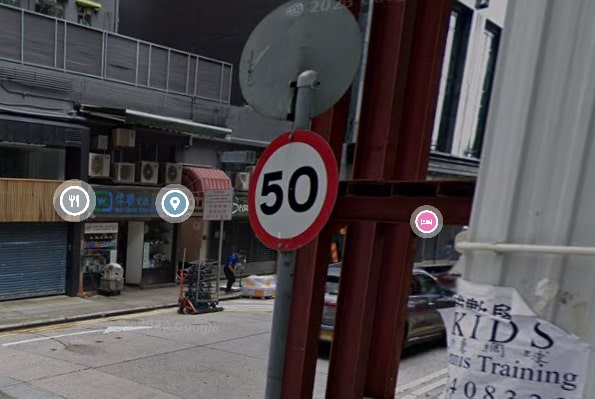Speed Limit: (239, 134, 343, 247)
